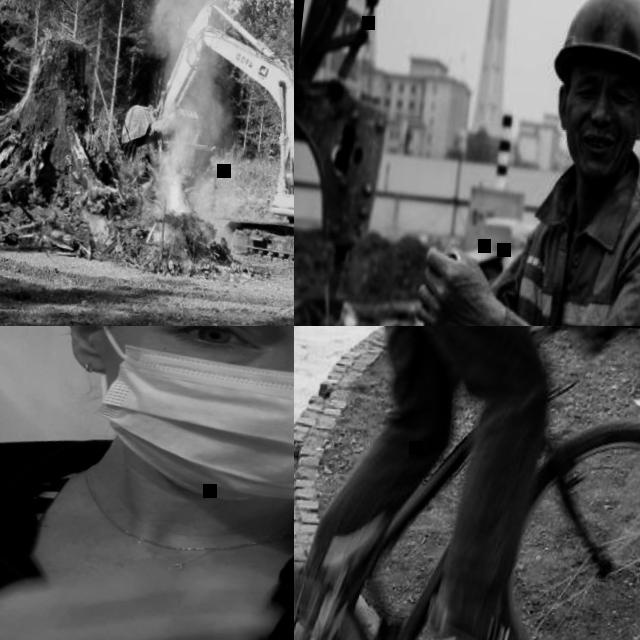Hardhat: (550, 0, 640, 101)
Mask: (91, 349, 294, 515)
NO-Mask: (566, 115, 635, 181)
NO-Safety Vest: (0, 479, 294, 640)
Person: (294, 326, 627, 640), (352, 0, 640, 326), (0, 326, 294, 640)
Safety Vest: (489, 139, 640, 326)
machinery: (105, 0, 294, 282), (294, 0, 429, 260)
